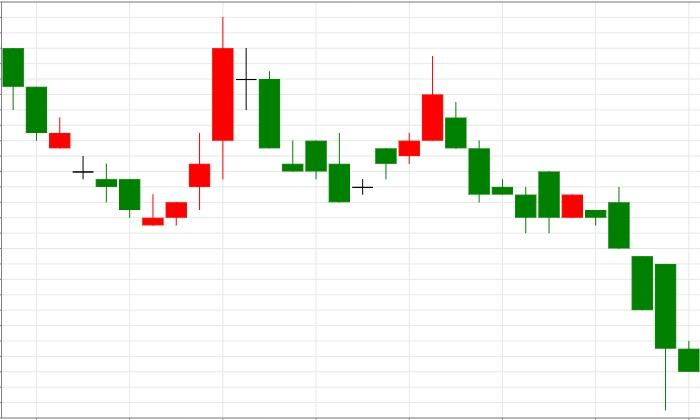evening_star_fall: (142, 16, 280, 226)
